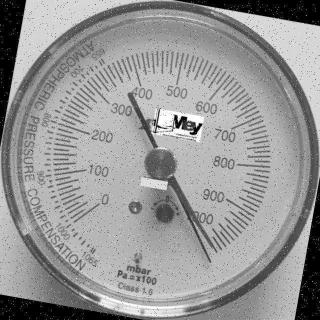gauge: (0, 0, 320, 320), (67, 190, 109, 233), (192, 220, 233, 262), (144, 147, 178, 181), (204, 256, 216, 266), (207, 241, 217, 251)
